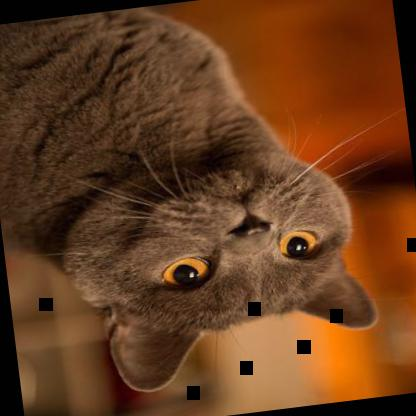cat: (0, 0, 385, 408)
